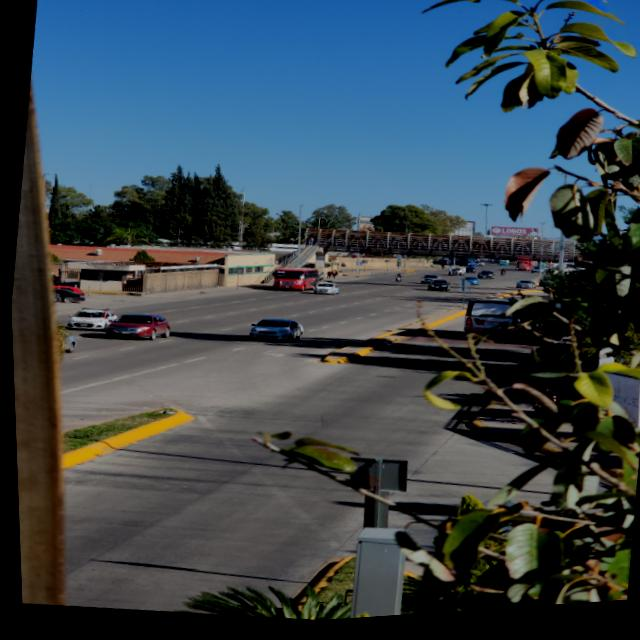Auto: (100, 311, 170, 348), (245, 315, 304, 349), (63, 303, 118, 337), (50, 285, 85, 307), (418, 280, 447, 299), (311, 284, 338, 301), (457, 281, 477, 297), (477, 275, 492, 286)
